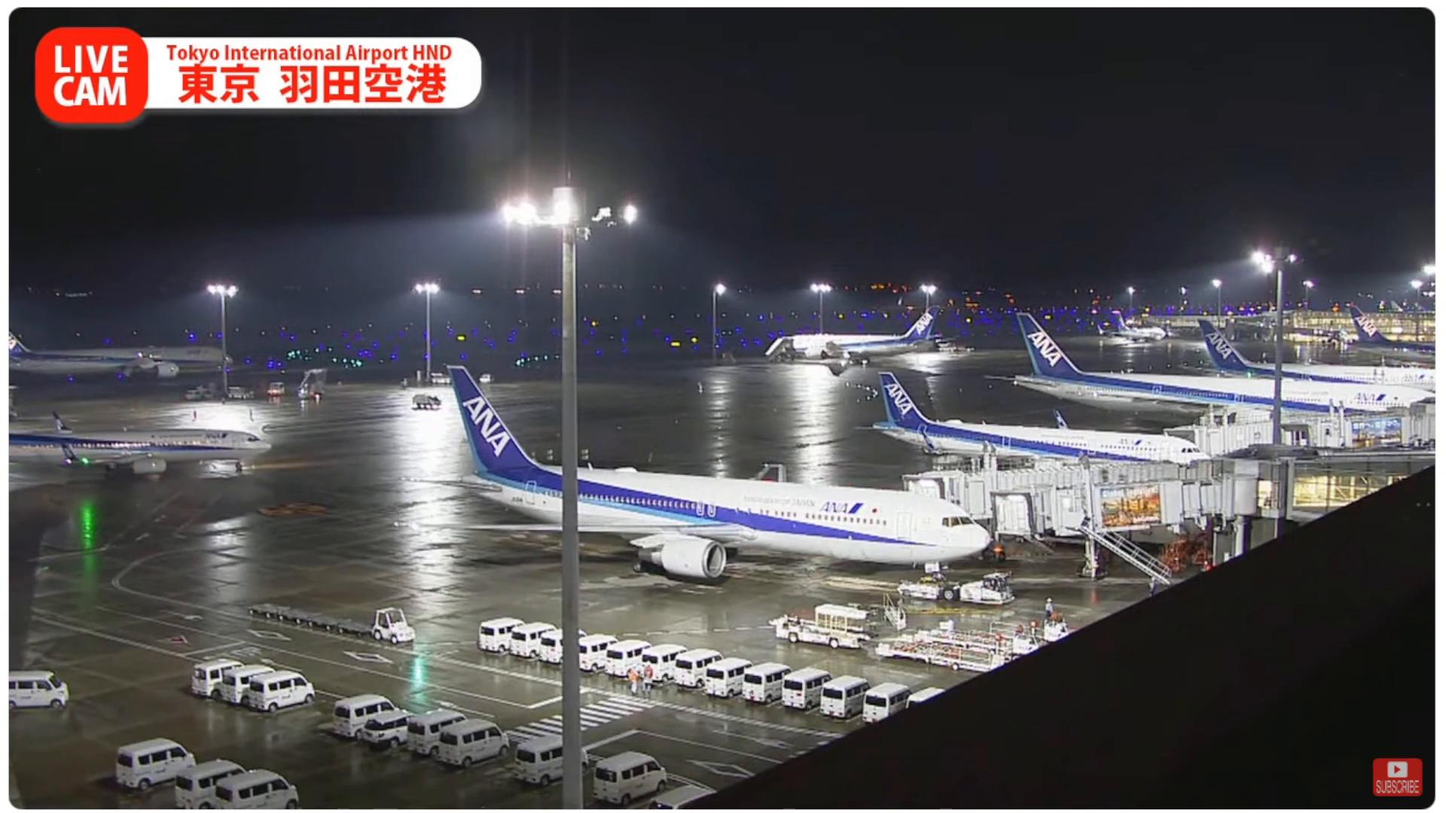Aerobridge: (992, 475, 1249, 541), (902, 461, 1219, 494)
Airplane: (384, 358, 990, 588)
Dolly: (245, 595, 373, 641)
JCPL: (863, 638, 1018, 673), (895, 625, 1050, 656)
Skyloader: (758, 598, 872, 653)
Tow Tug: (896, 572, 1024, 605)
Tractor: (369, 607, 423, 645)
Window: (1293, 468, 1419, 517)
